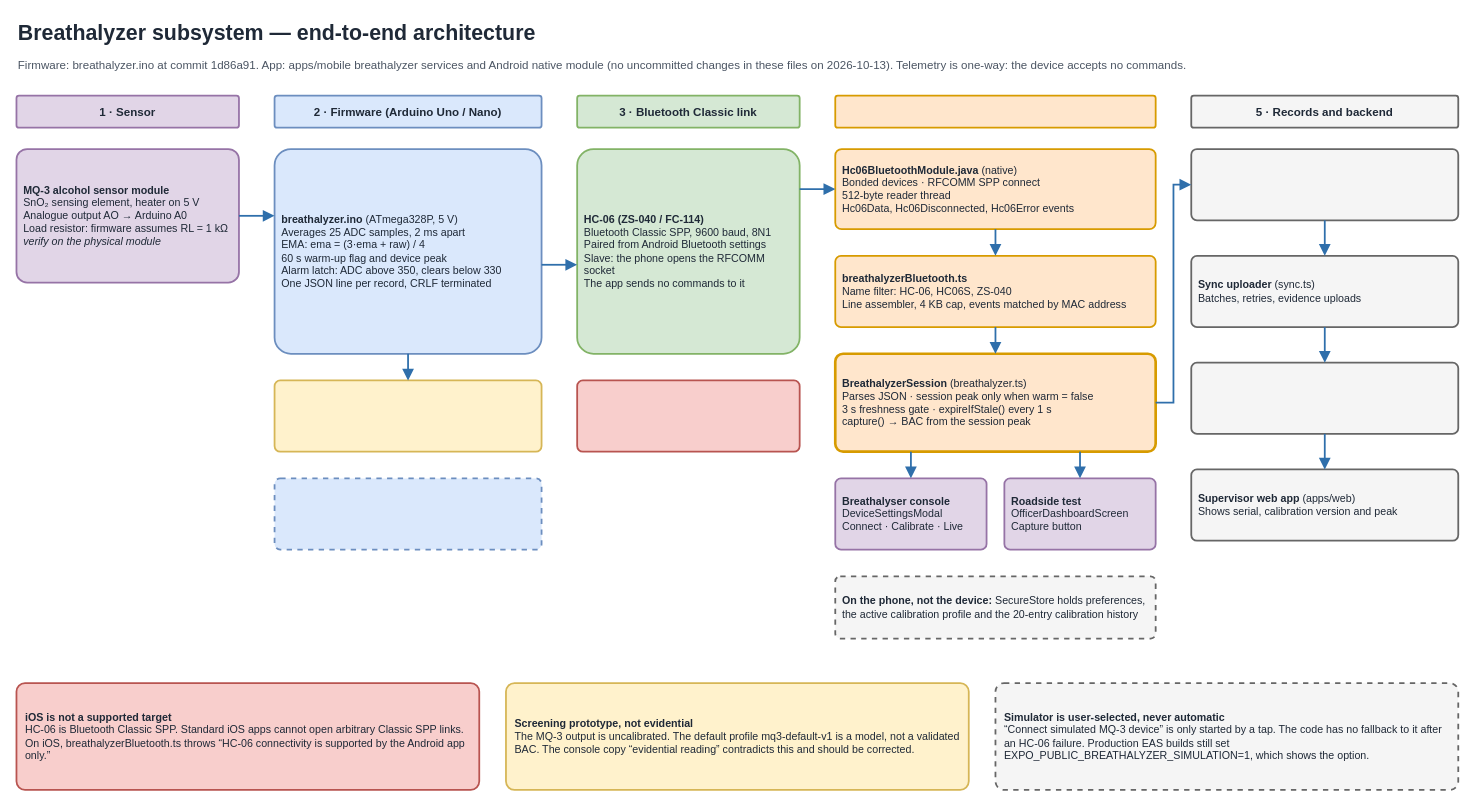
This 1474x805 diagram has some shape labels left out. The shapes that lost their labels are listed below. From the top down, each one's box as (x1, y1, x2, y2) in pixels, then its label:
(834, 94, 1156, 128): 4 · Android app (apps/mobile)
(1190, 148, 1459, 221): Local SQLite queue Test record and device evidence pending_sync until uploaded
(273, 379, 542, 452): Passive buzzer on D8 tone(2700 Hz) only when warm and latched
(576, 379, 800, 452): Level shift D4 → 1 kΩ → RXD and RXD → 2 kΩ → GND 5 V becomes ≈3.3 V
(1190, 361, 1459, 434): Backend API (backend/, Cloudflare Worker) Data store: Supabase
(273, 477, 542, 550): USB serial on D0 / D1 Flashing and bench copy of the same stream
